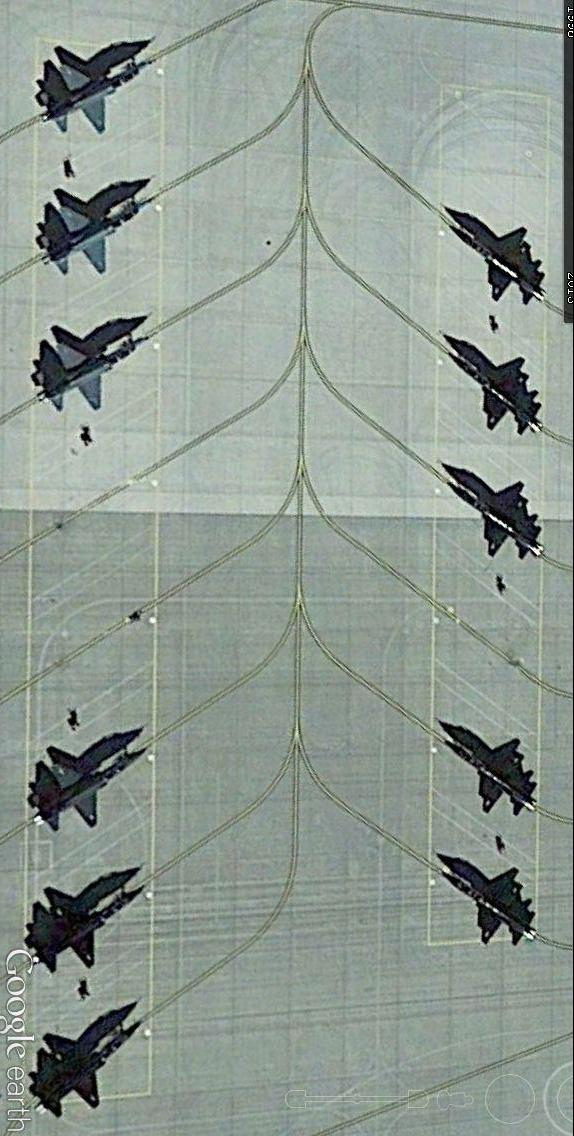plane: (24, 1008, 151, 1123), (27, 874, 156, 977), (40, 177, 164, 280), (26, 736, 154, 834), (32, 318, 159, 414), (36, 47, 165, 141), (440, 205, 550, 311), (427, 846, 538, 951), (444, 329, 546, 435), (432, 721, 540, 819), (439, 463, 546, 560)
